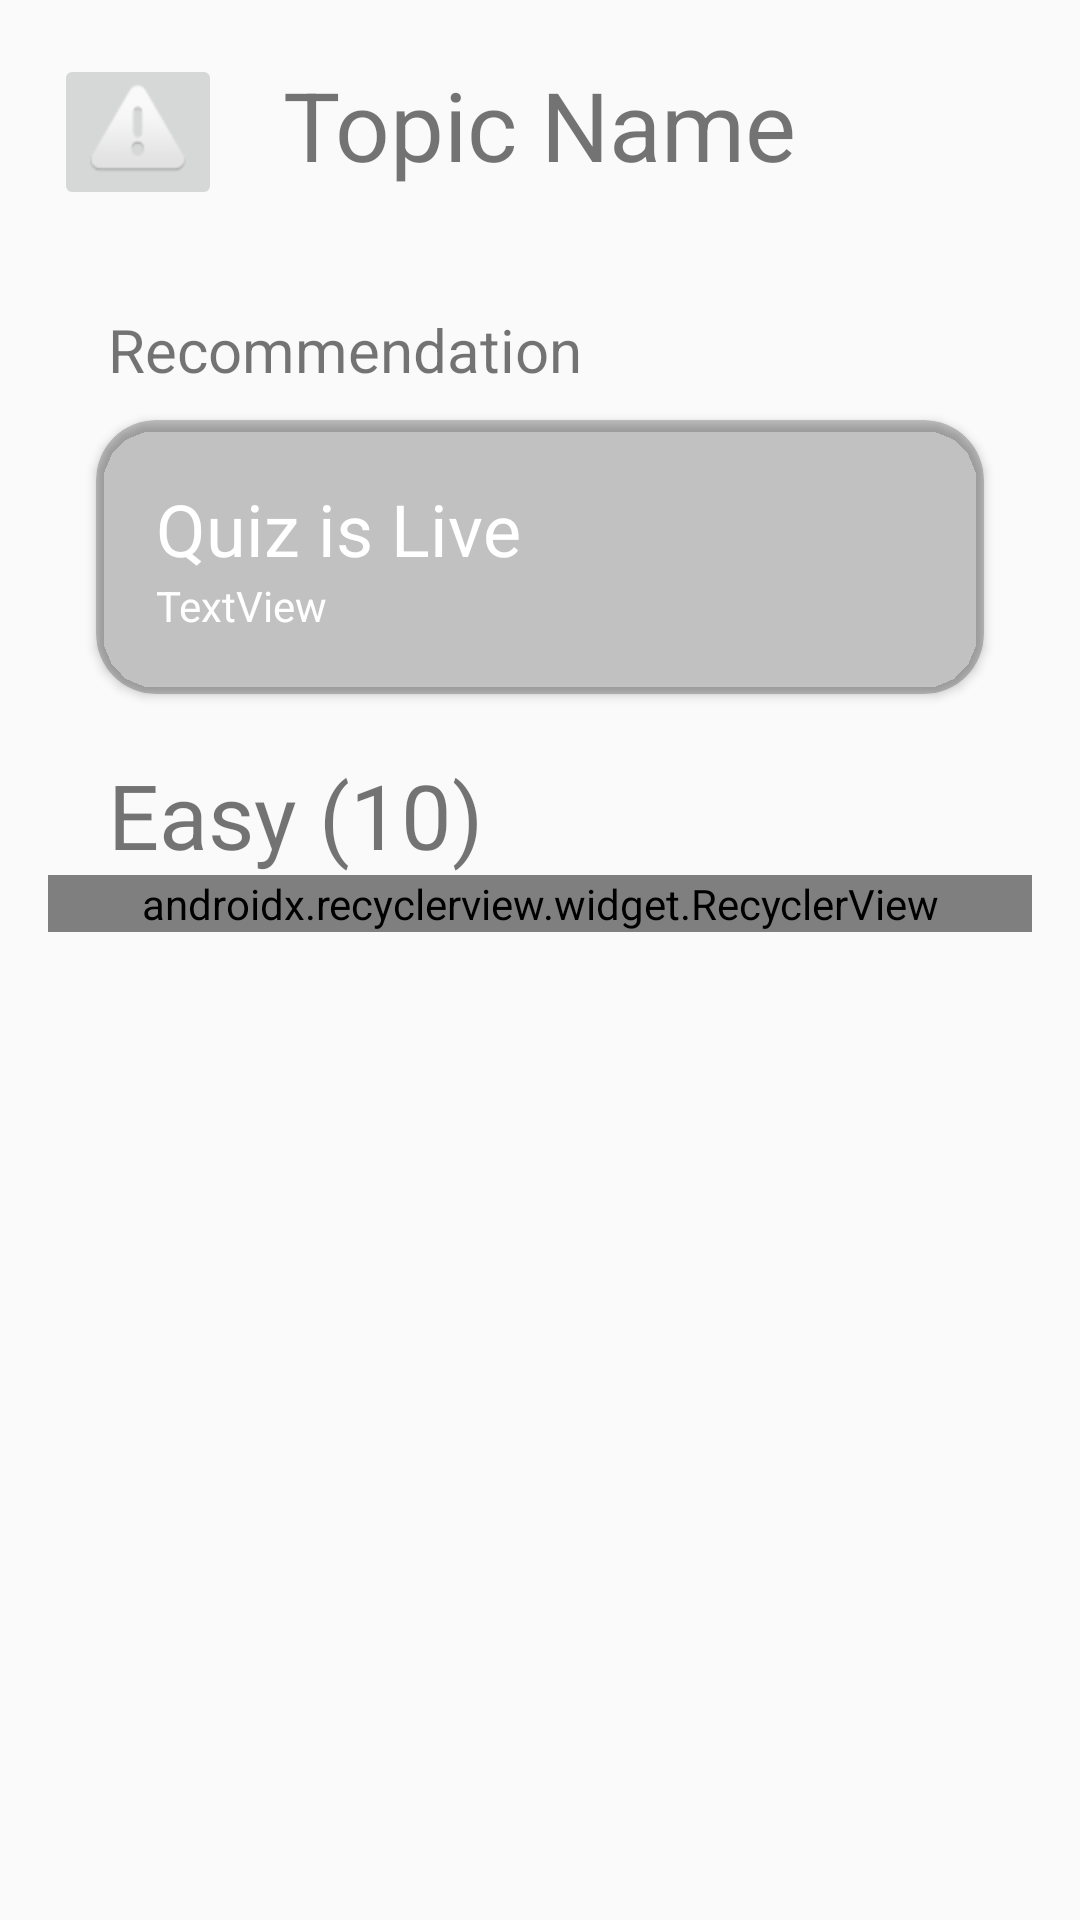

Where icons sit on this 1080*1920 app screen, as rect(x1, y1, x2, y2):
alert: rect(66, 72, 210, 192)
